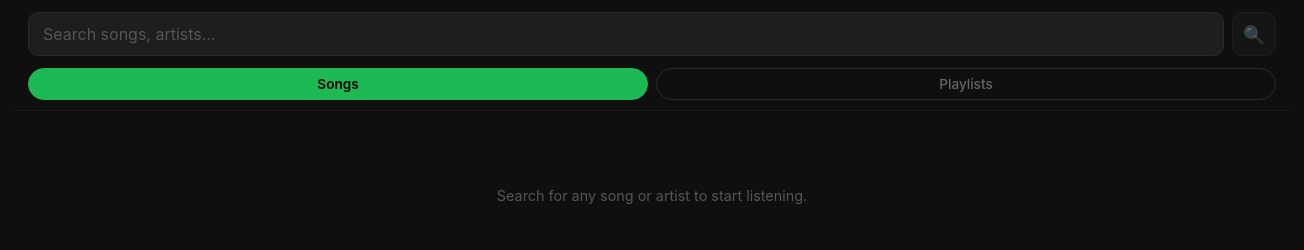
SearchView › clears results and resets pagination on clear
Type "rock" into the search field with placeholder "Search songs, artists…" at coordinates (626, 34), box x1=28 y1=12 x2=1224 y2=56
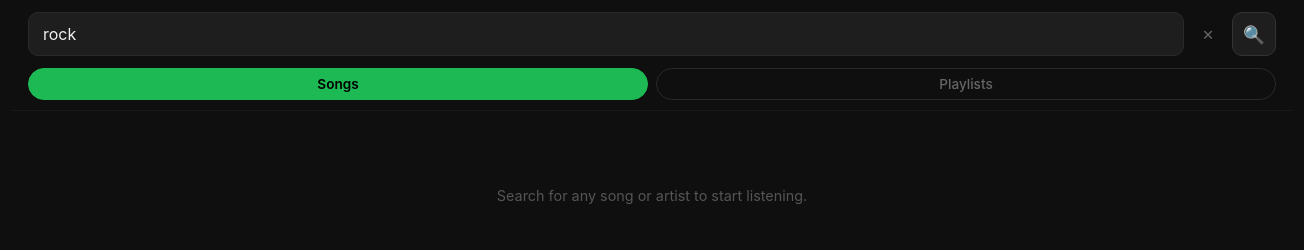
Submit the form "✕ 🔍", box x1=12 y1=0 x2=1292 y2=68
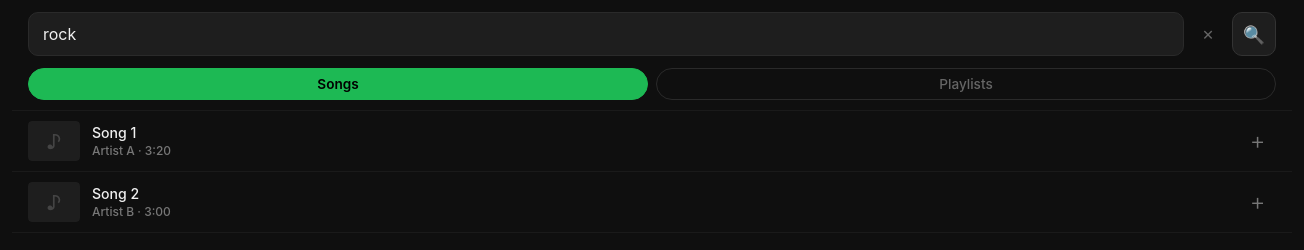
Check: the text "Song 1" is shown, box x1=92 y1=124 x2=136 y2=141
Click the button named "clear" at coordinates (1208, 34), box x1=1192 y1=12 x2=1224 y2=56
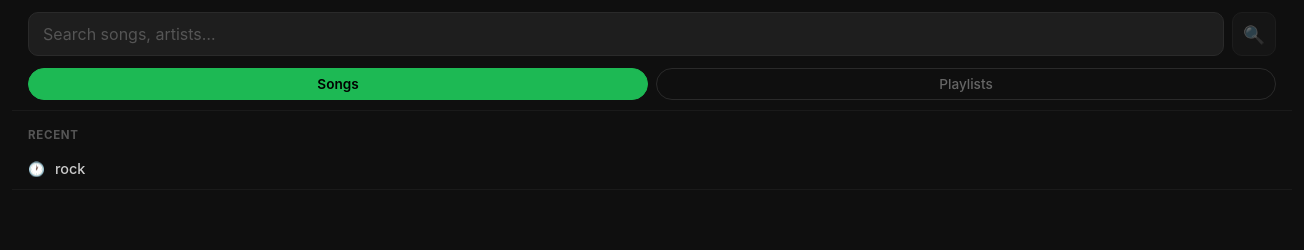
Check: the button "Song 1" is gone
